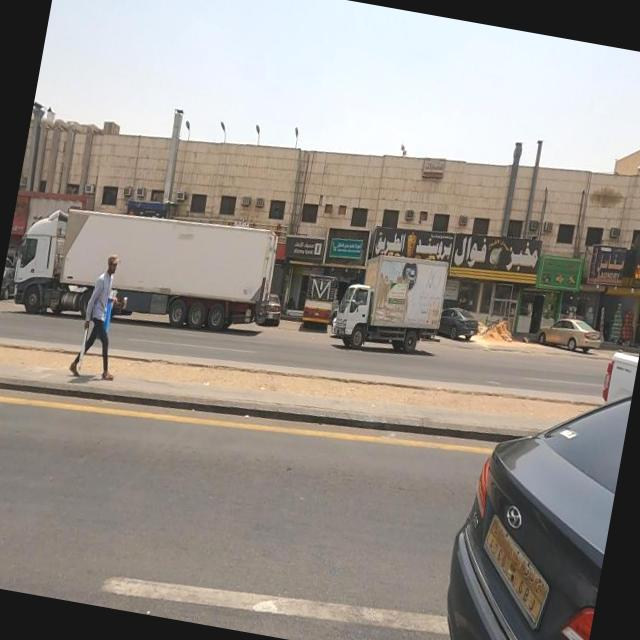debris: (506, 227, 612, 328)
